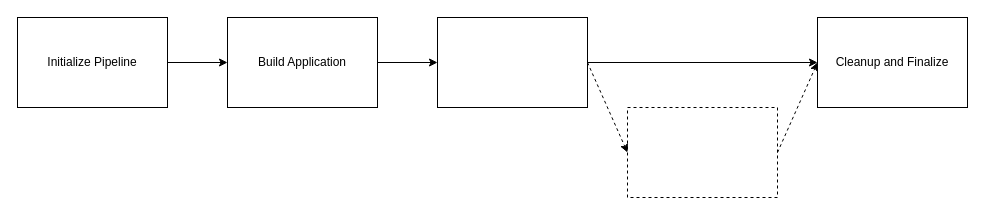
Some shapes in this 985 by 215 pixel diagram are drawn without their labels. The centre of each missing label's shape, as x and y in pixels:
"[Backend] Unit test" goes at pixel 702 152.
"Deploy to UAT Environment" goes at pixel 512 62.
